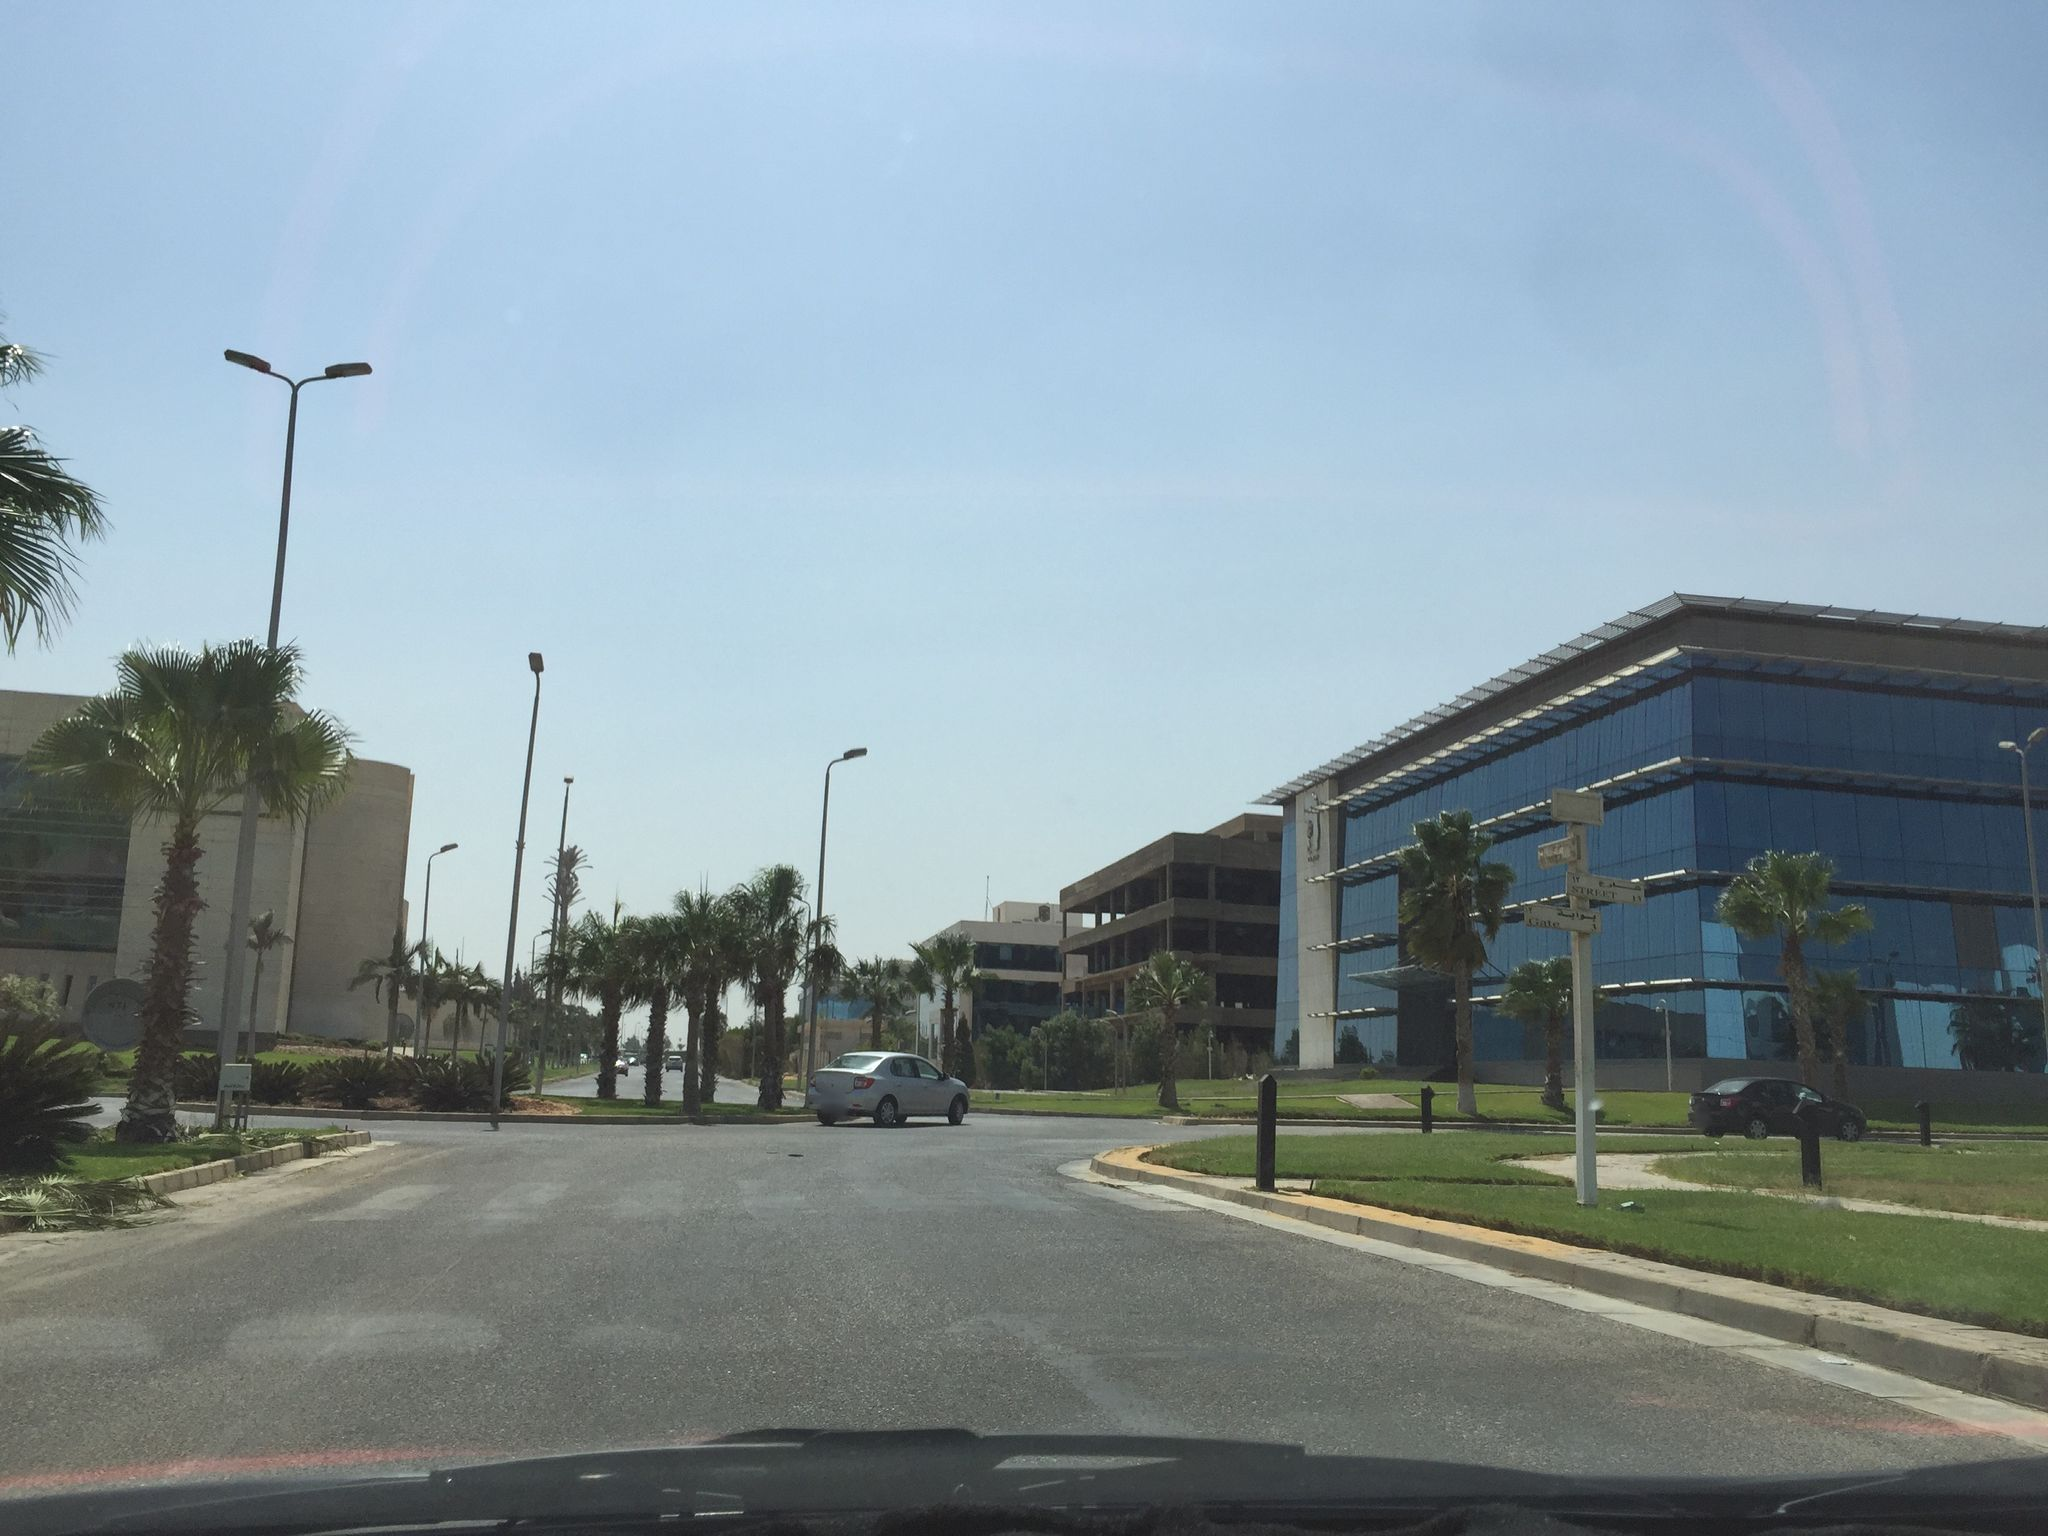car: (803, 1050, 971, 1126), (1687, 1075, 1866, 1141)
